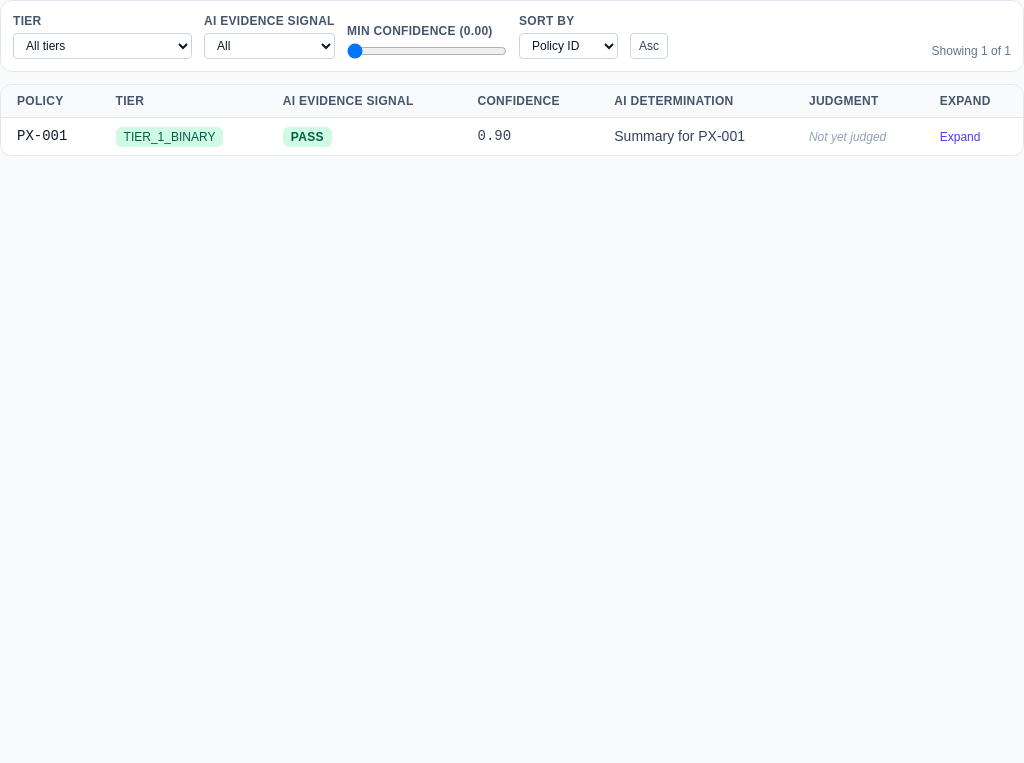
Scenario: PerPolicyResultsTable AI Determination + policy text + tech disclosure › renders policy text prominently from evidence_slices when policy_id matches
Click the button with test id "per-policy-expand-toggle": (960, 137) x1=940 y1=129 x2=980 y2=145
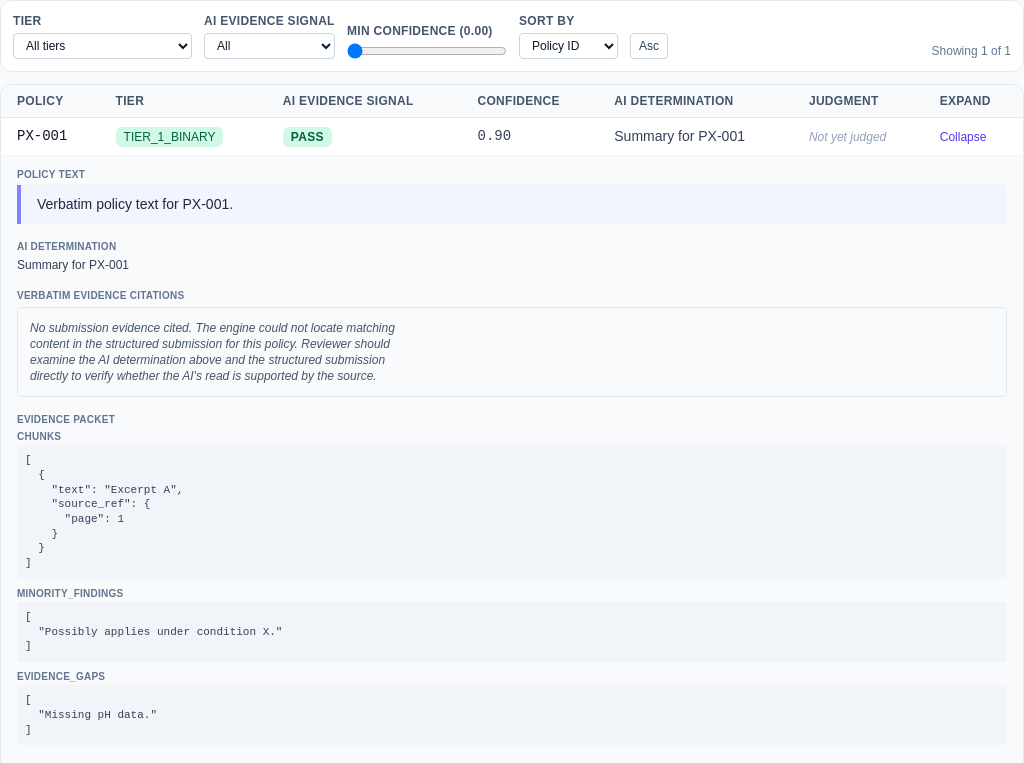
Expected: the text with test id "per-policy-policy-text" reads "Verbatim policy text for PX-001.", x1=37 y1=196 x2=233 y2=212
